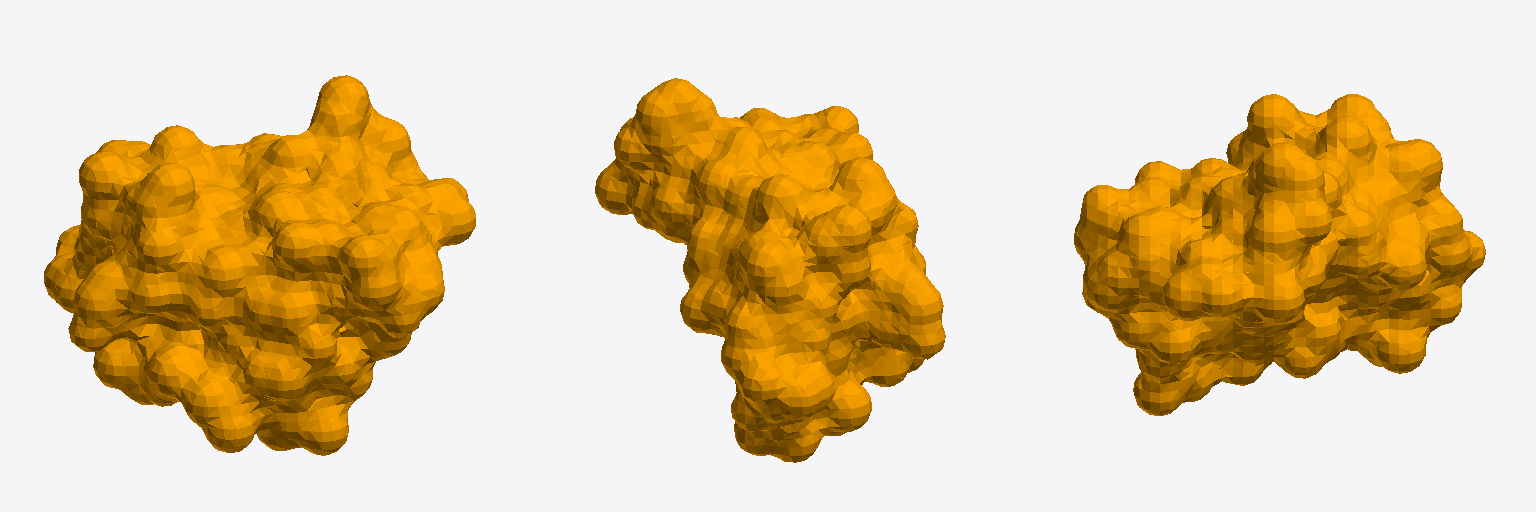
The model's file is 1crn.obj.
3 views of the same model, side by side, from view 1: azimuth 30°, elevation 25°; view 2: azimuth 150°, elevation 25°; view 3: azimuth 270°, elevation 25° (orthographic).
Visible parts, largest first — view 1: Surface1; view 2: Surface1; view 3: Surface1.
Boxes of the visible parts, box(x1,y1,x2,y2) form: Surface1: box(44, 75, 475, 455); Surface1: box(595, 78, 945, 462); Surface1: box(1074, 94, 1485, 415).
Size of the model in its own units: 30.72 by 25.32 by 30.6.